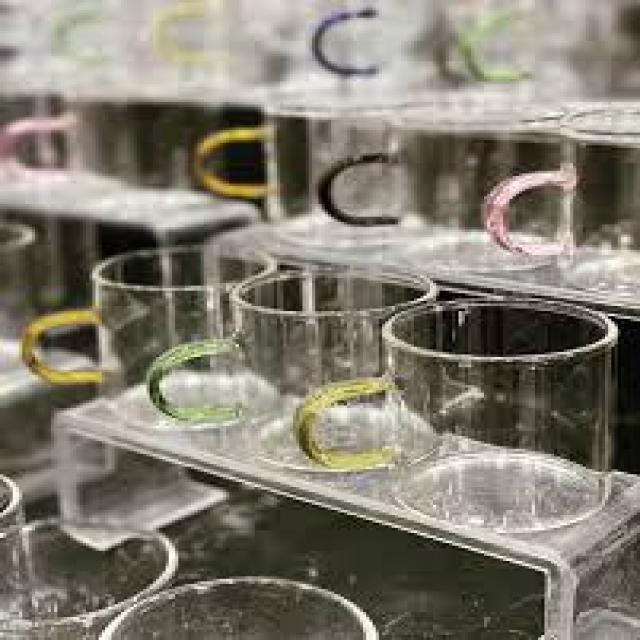non-organic waste: (296, 298, 618, 533)
